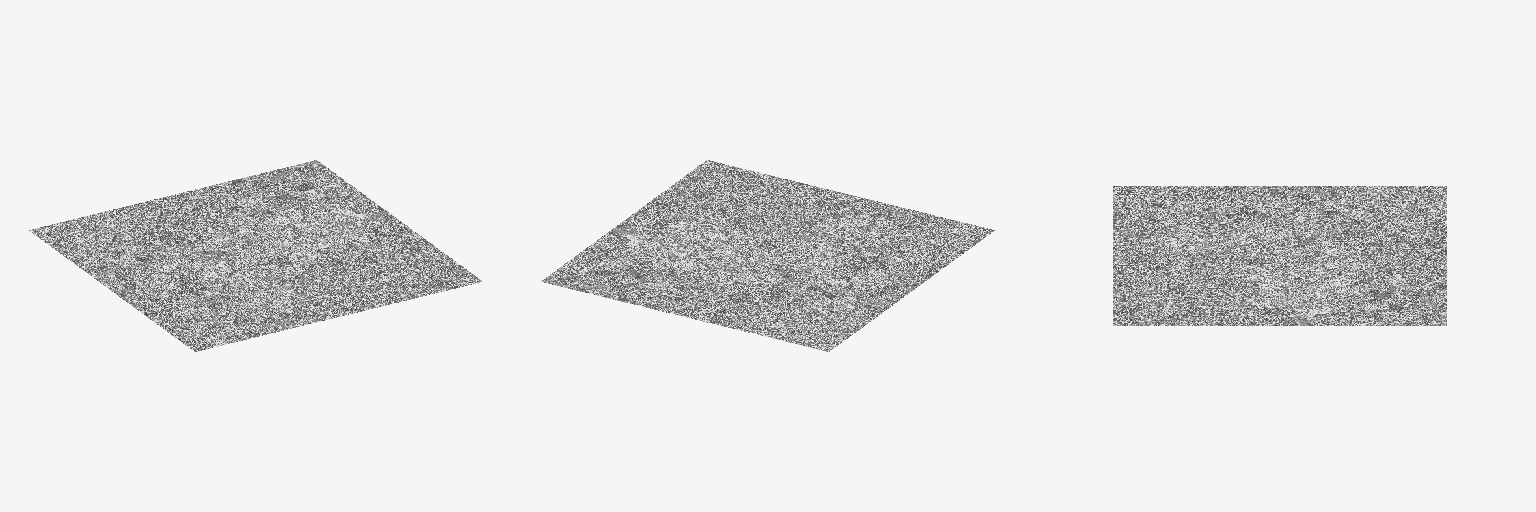
The picture shows the model from 3 angles: view 1: azimuth 30°, elevation 25°; view 2: azimuth 150°, elevation 25°; view 3: azimuth 270°, elevation 25°; orthographic projection.
Visible parts, largest first — view 1: grass_Plane.006; view 2: grass_Plane.006; view 3: grass_Plane.006.
Boxes of the visible parts, x1,y1,x2,y2 form: grass_Plane.006: [29, 160, 482, 351]; grass_Plane.006: [541, 160, 994, 351]; grass_Plane.006: [1113, 186, 1446, 325].
Size of the model in its own units: 2 by 0 by 2.
Materials: 1 (1 with a texture image).